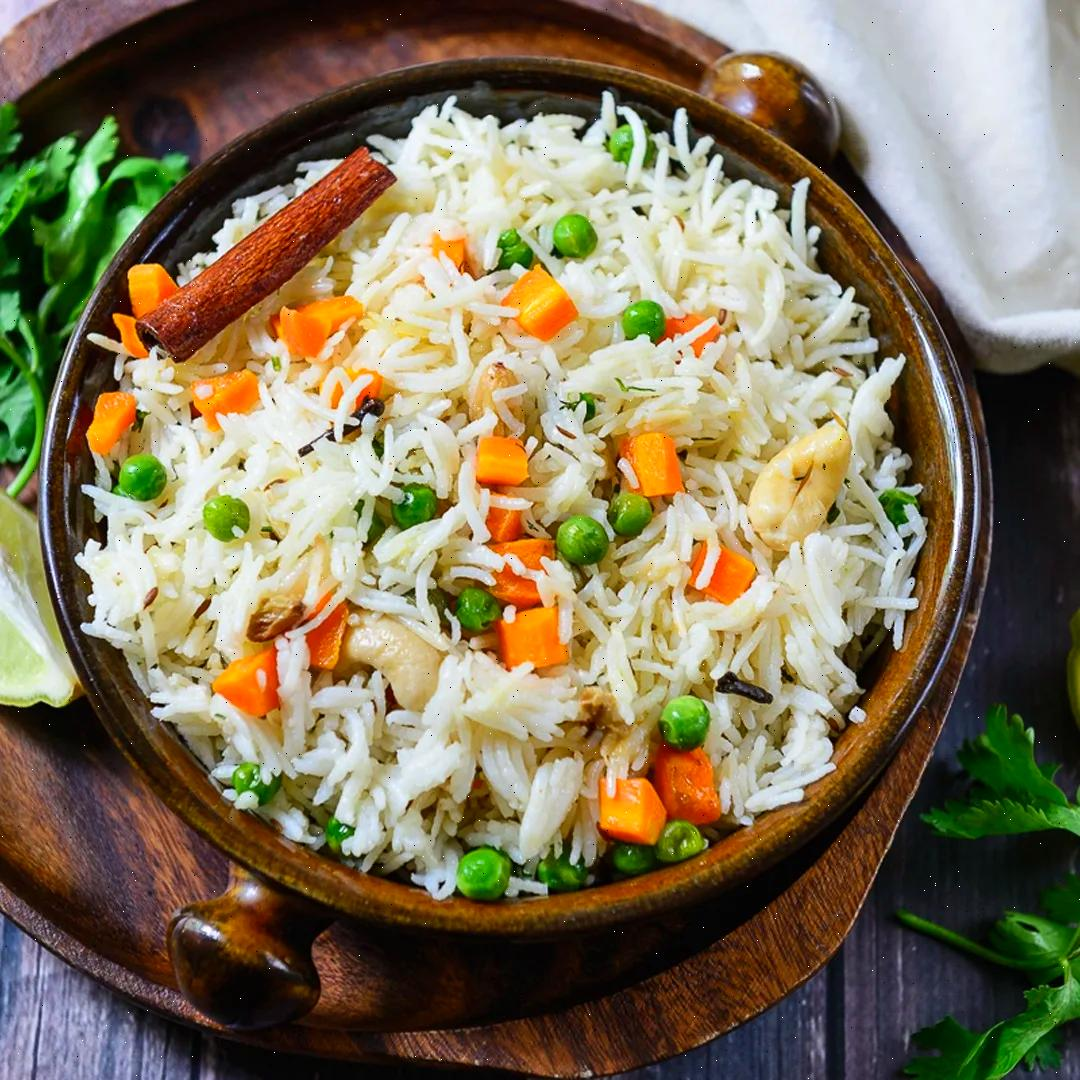veg-pulao: (134, 158, 854, 832)
